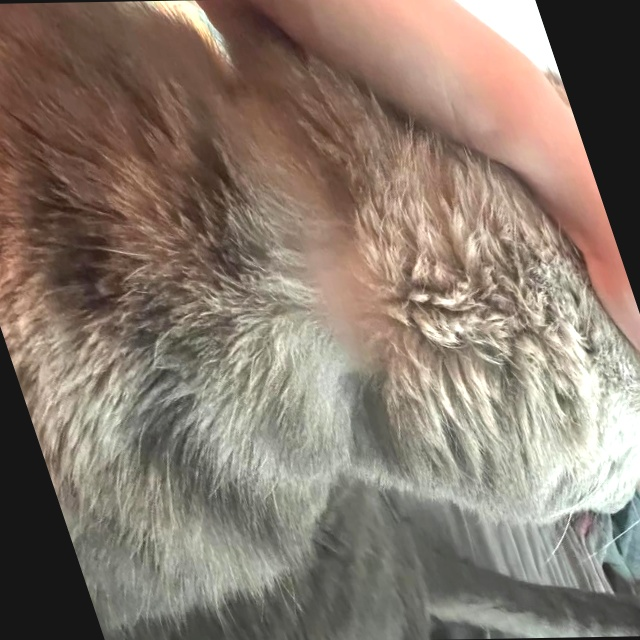hairloss: (256, 125, 417, 400)
